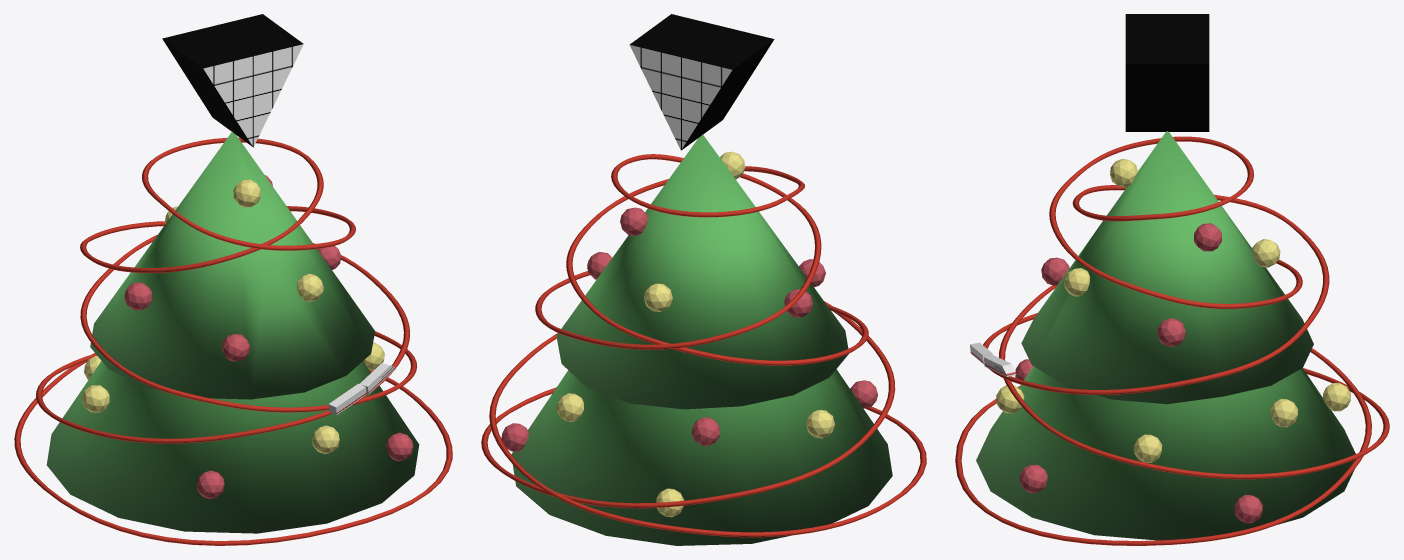
Rendered from ChristmasTrain.gltf.
3 views of the same model, side by side, from view 1: azimuth 30°, elevation 25°; view 2: azimuth 150°, elevation 25°; view 3: azimuth 270°, elevation 25° (orthographic). The views are drawn at different scales.
Visible parts, largest first — view 1: Tree_Base, Tree_Top, Ribbon, Dwar_logo, Icosphere.002, Icosphere.014, Icosphere.003, Icosphere, Icosphere.004, Icosphere.013, Icosphere.005, Icosphere.001 (+1 smaller); view 2: Tree_Top, Tree_Base, Ribbon, Dwar_logo, Icosphere.012, Icosphere.015, Icosphere.013, Icosphere.010, Icosphere.008, Icosphere.009, Icosphere.004, Icosphere.014 (+1 smaller); view 3: Tree_Base, Tree_Top, Ribbon, Dwar_logo, Icosphere.009, Icosphere.006, Icosphere.007, Icosphere.008, Icosphere.010, Icosphere.005, Icosphere.011, Icosphere.015 (+4 smaller).
Boxes of the visible parts, x1,y1,x2,y2 form: Tree_Base: (46,361,419,533); Tree_Top: (90,131,375,399); Ribbon: (14,137,452,545); Dwar_logo: (162,14,303,147); Icosphere.002: (233,179,261,207); Icosphere.014: (124,282,151,310); Icosphere.003: (312,425,339,454); Icosphere: (221,334,249,361); Icosphere.004: (196,470,224,499); Icosphere.013: (82,385,109,412); Icosphere.005: (386,432,413,461); Icosphere.001: (297,273,323,301); Tree_Top: (556,134,848,409); Tree_Base: (511,369,892,545); Ribbon: (481,154,926,537); Dwar_logo: (629,14,774,150); Icosphere.012: (691,417,720,446); Icosphere.015: (644,283,672,311); Icosphere.013: (806,410,834,438); Icosphere.010: (556,393,583,421); Icosphere.008: (620,207,647,235); Icosphere.009: (501,423,528,451); Icosphere.004: (850,380,877,408); Icosphere.014: (784,289,812,317); Tree_Base: (976,366,1355,540); Tree_Top: (1021,131,1313,404); Ribbon: (955,136,1389,545); Dwar_logo: (1125,14,1209,131); Icosphere.009: (1234,495,1262,523); Icosphere.006: (1134,434,1162,462); Icosphere.007: (1157,318,1185,346); Icosphere.008: (1194,223,1221,251); Icosphere.010: (1270,399,1297,427); Icosphere.005: (1019,465,1047,492); Icosphere.011: (1323,383,1350,411); Icosphere.015: (1252,239,1280,267).
Bounding box in the file's own units: 30.05 × 31.76 × 29.57.
7 materials, 3 textured.
